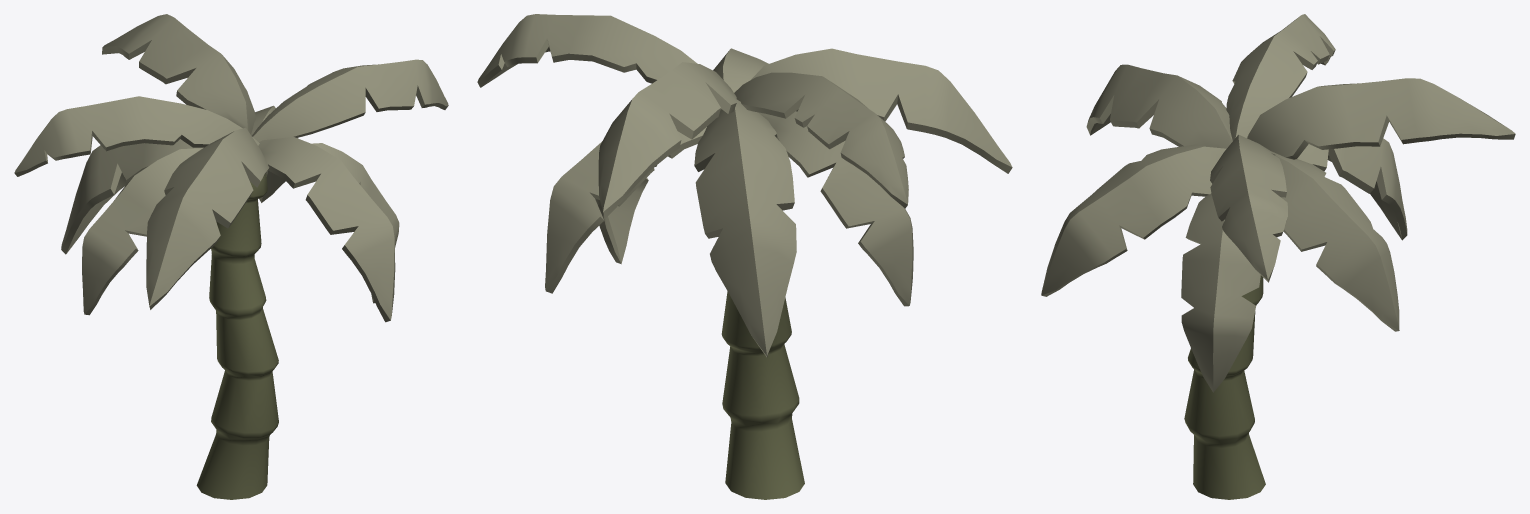
File: quaternius-pirate-environment-palm-tree-3.glb
The picture shows the model from 3 angles, left to right: view 1: azimuth 30°, elevation 25°; view 2: azimuth 150°, elevation 25°; view 3: azimuth 270°, elevation 25°; orthographic projection. The views are drawn at different scales.
Visible parts, largest first — view 1: Environment_PalmTree_3; view 2: Environment_PalmTree_3; view 3: Environment_PalmTree_3.
Part boxes in pixels (x1,y1,x2,y2): Environment_PalmTree_3: (14,14,448,499); Environment_PalmTree_3: (477,14,1012,499); Environment_PalmTree_3: (1041,14,1515,499).
Size of the model in its own units: 2.86 by 2.69 by 2.75.
1 material, 1 textured.
